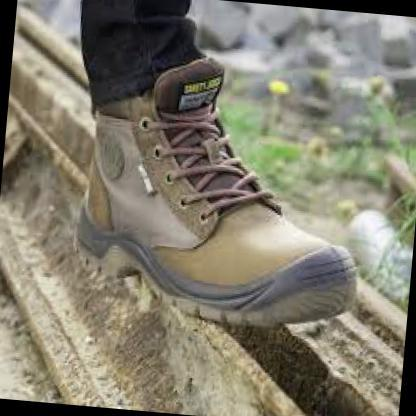safety-shoe: (60, 49, 395, 351)
